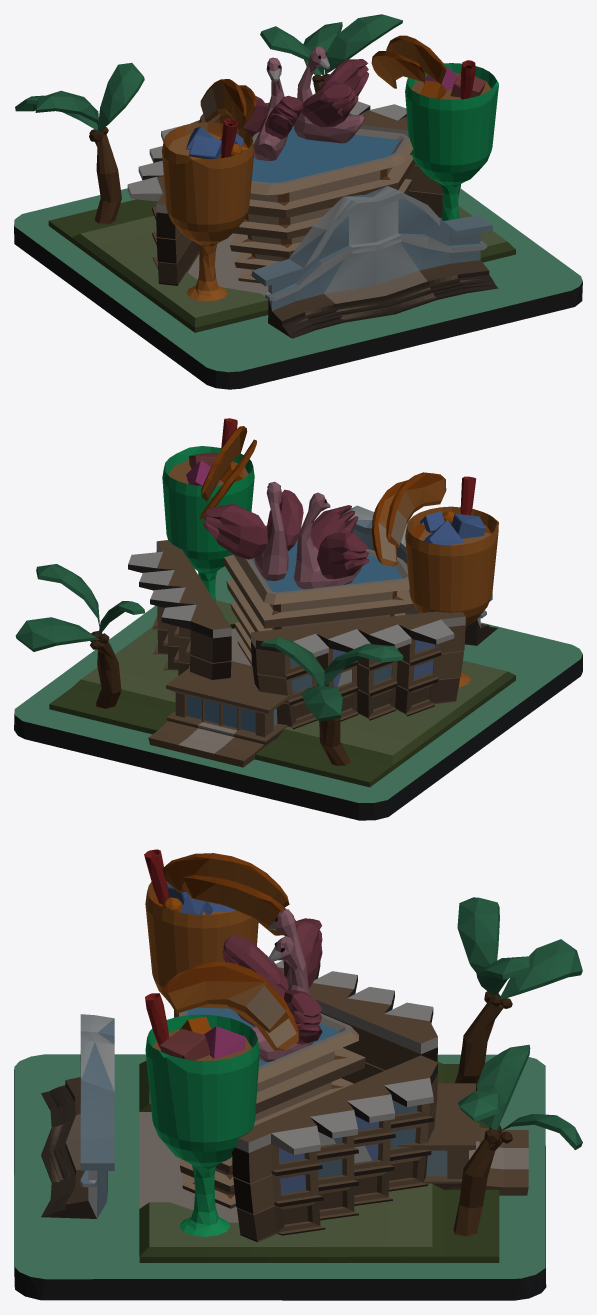
3 views of the same model, one above another, from view 1: azimuth 30°, elevation 25°; view 2: azimuth 150°, elevation 25°; view 3: azimuth 270°, elevation 25° (orthographic). The views are drawn at different scales.
Visible parts, largest first — view 1: Plane.038; view 2: Plane.038; view 3: Plane.038.
Boxes of the visible parts, x1,y1,x2,y2 form: Plane.038: (14,14,582,389); Plane.038: (14,418,582,820); Plane.038: (14,849,582,1300).
Size of the model in its own units: 2.81 by 1.63 by 3.
1 material, 1 textured.
